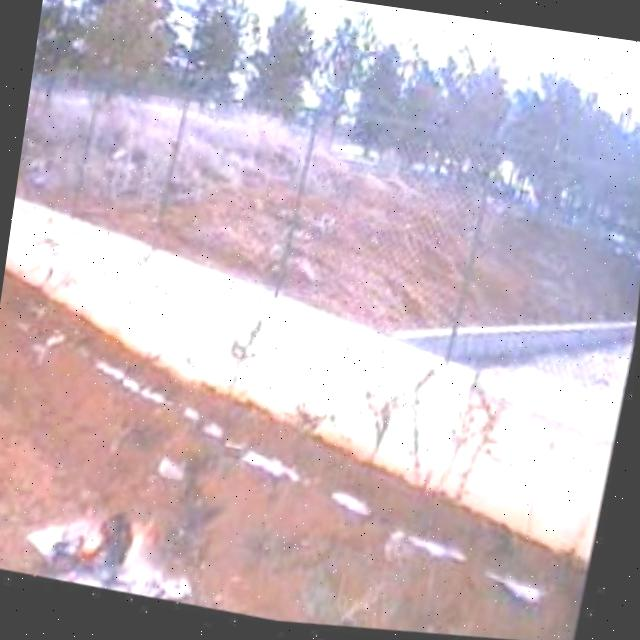fire: (29, 492, 163, 605)
